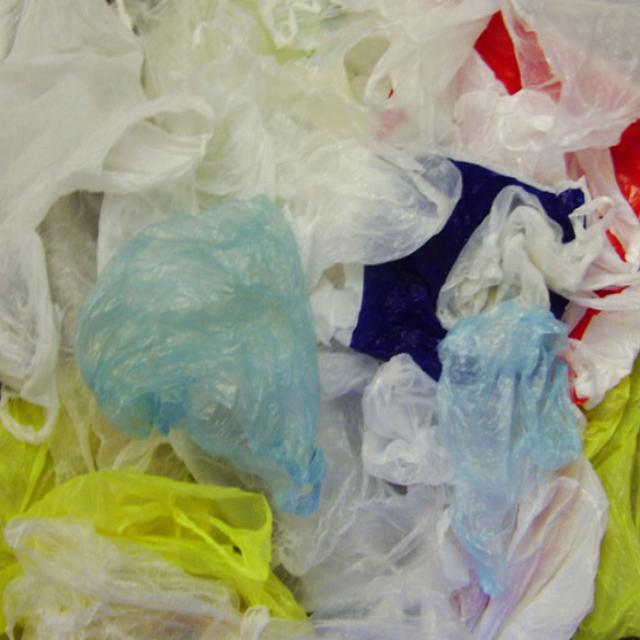Single-layer Plastic: (126, 3, 640, 343), (274, 350, 608, 637), (0, 2, 212, 413), (75, 195, 325, 515), (0, 423, 306, 635), (436, 150, 640, 407), (438, 301, 582, 594), (40, 191, 171, 483), (4, 517, 242, 639), (575, 355, 640, 638)
